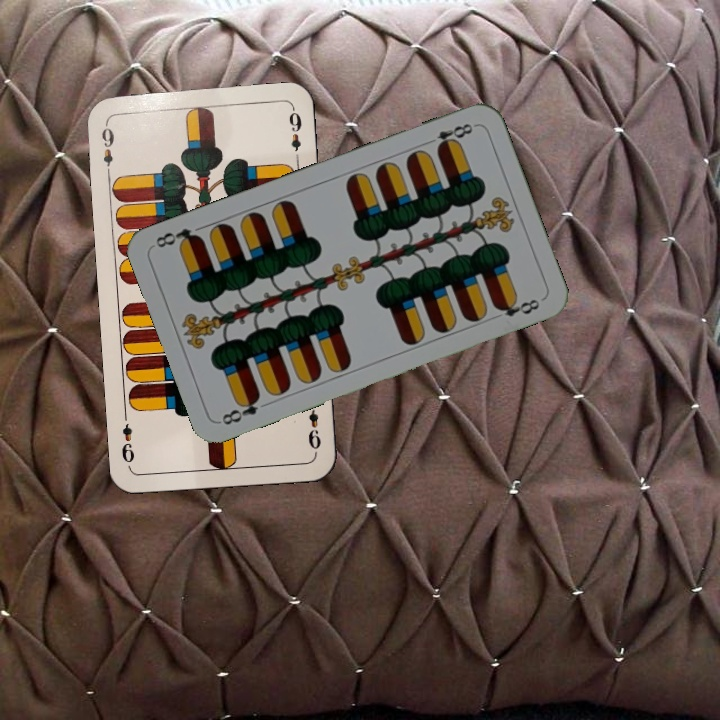E8: (421, 119, 478, 153), (217, 390, 263, 428)
E9: (97, 119, 117, 178), (304, 396, 323, 452)
